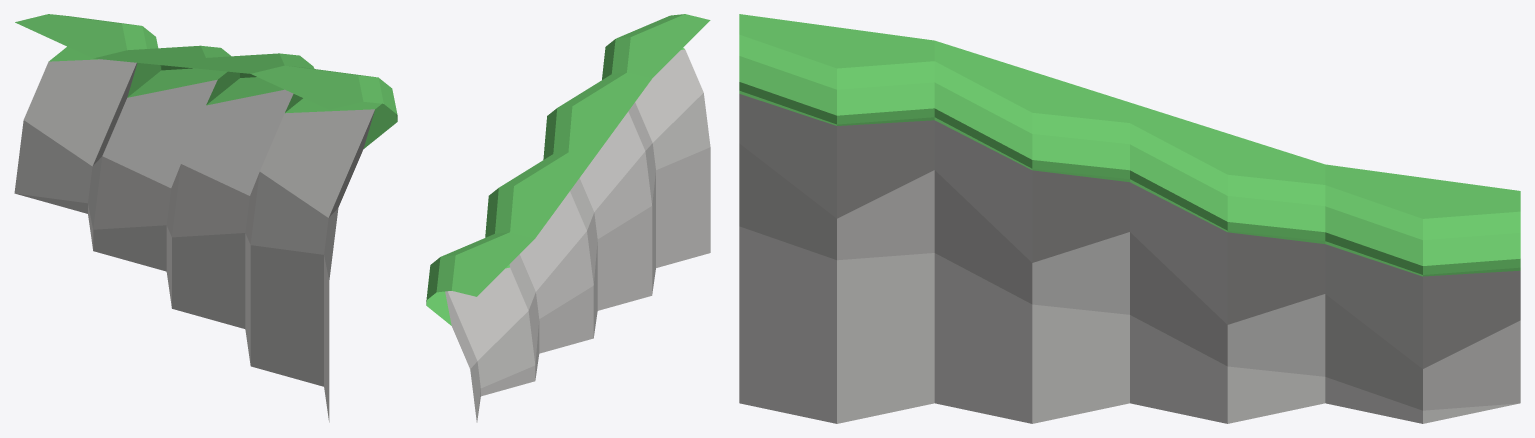
The model's file is Cliff_Terrain_Hill_Gentle_Top.glb.
3 renders of one model, left to right at view 1: azimuth 30°, elevation 25°; view 2: azimuth 150°, elevation 25°; view 3: azimuth 270°, elevation 25°, orthographic. The views are drawn at different scales.
Parts seen in each view (by area): view 1: Cliff_Terrain_Hill_Gentle_Top; view 2: Cliff_Terrain_Hill_Gentle_Top; view 3: Cliff_Terrain_Hill_Gentle_Top.
Boxes of the visible parts, x1,y1,x2,y2 form: Cliff_Terrain_Hill_Gentle_Top: (14, 14, 397, 422); Cliff_Terrain_Hill_Gentle_Top: (426, 14, 710, 422); Cliff_Terrain_Hill_Gentle_Top: (739, 14, 1520, 423).
Bounding box in the file's own units: 0.3975 × 1.17 × 2.12.
